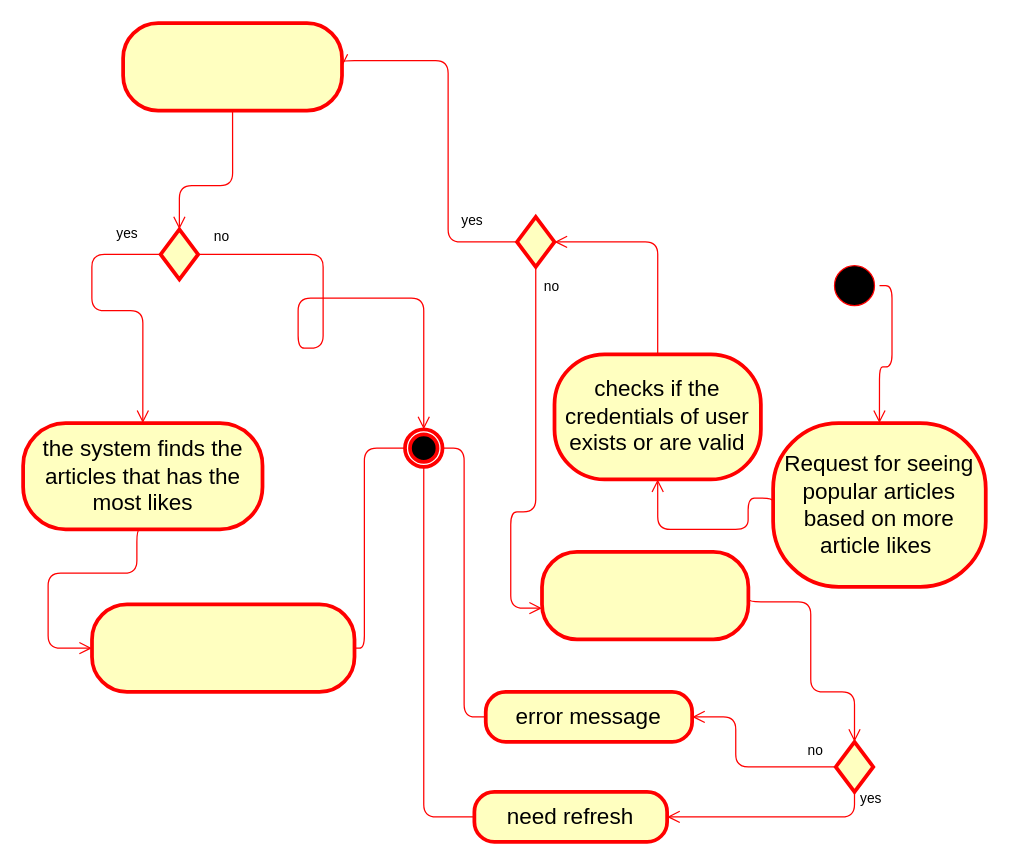
Image size: 1010x865. Some labels were removed from this diagram. The shapes that lost their labels are listed below. From the top down, each one's centre as x and y in pixels, then its label:
pixel 232 66: checks if the user is a valid admin
pixel 645 595: check if the access token is expired
pixel 223 647: retrieve them and show them in web UI
